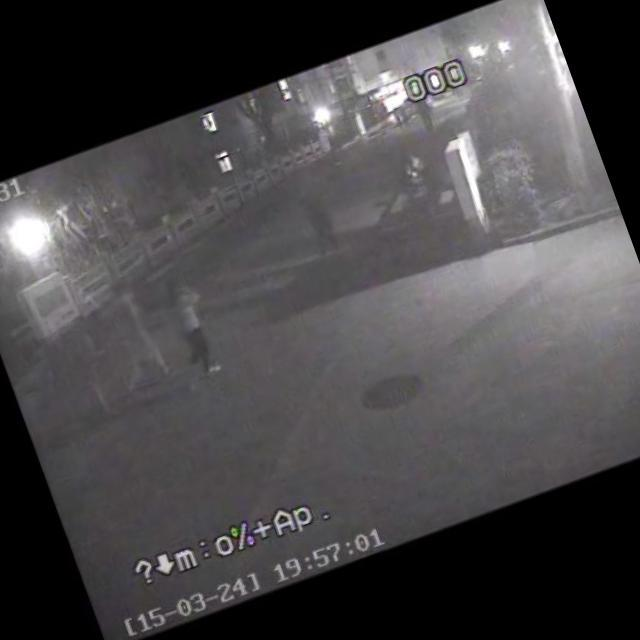person: (92, 272, 176, 401), (153, 269, 231, 390), (289, 180, 355, 266), (411, 98, 448, 147)
